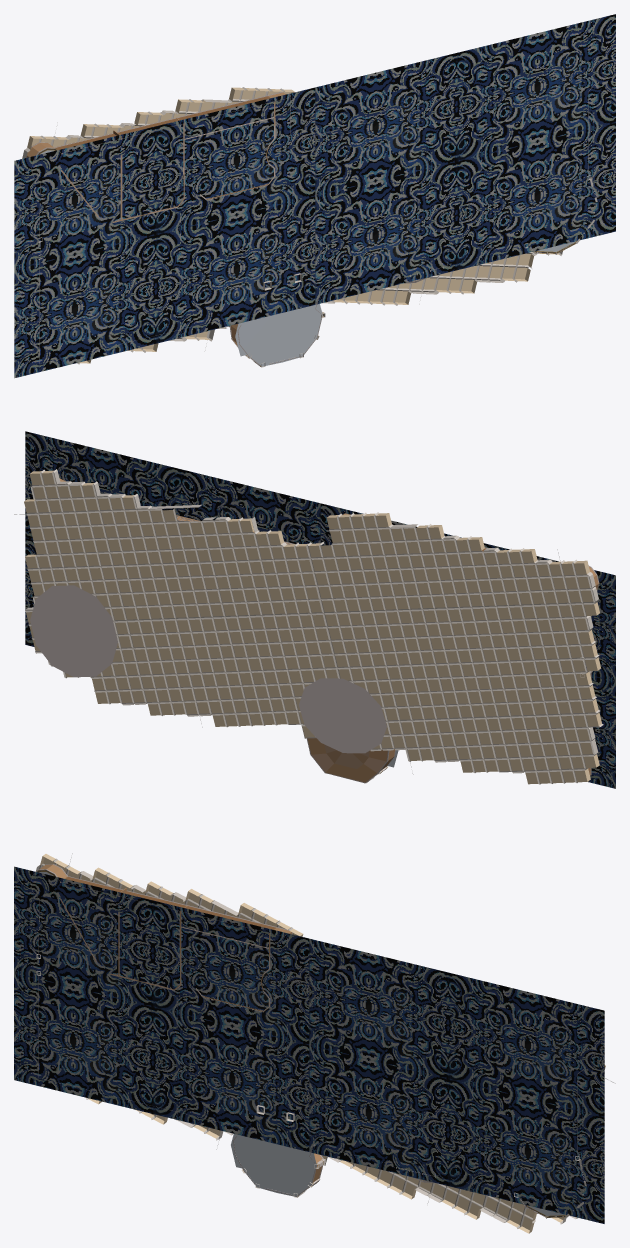
The model's file is UUDRPCom (2).fbx.
The picture shows the model from 3 angles, top to bottom: view 1: azimuth 30°, elevation 25°; view 2: azimuth 150°, elevation 25°; view 3: azimuth 330°, elevation 25°; orthographic projection.
Visible parts, largest first — view 1: Plane.073; view 2: Plane.073; view 3: Plane.073.
Boxes of the visible parts, x1,y1,x2,y2 form: Plane.073: (14, 14, 615, 378); Plane.073: (14, 431, 615, 788); Plane.073: (14, 853, 615, 1233).
Bounding box in the file's own units: 201 × 91.12 × 6.69.
